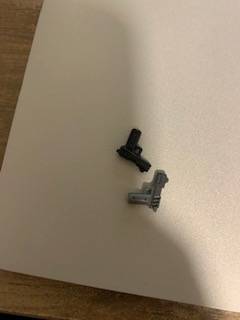pistol: (126, 171, 171, 213), (114, 127, 153, 175)
